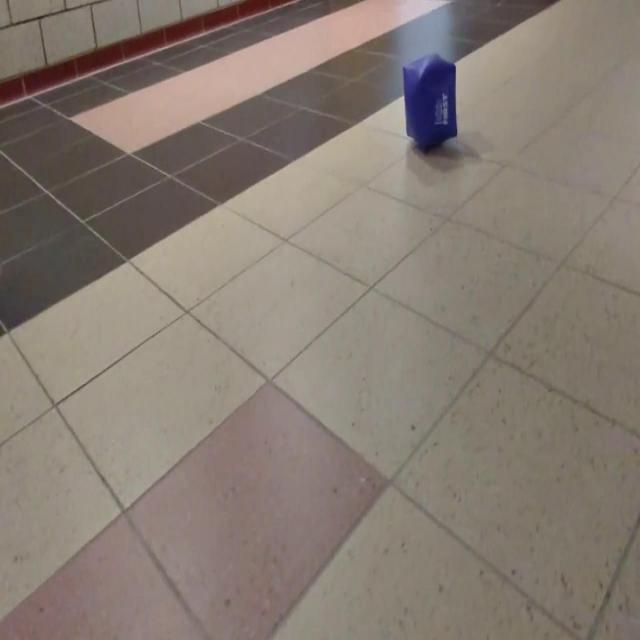frc_cube: (402, 58, 457, 152)
